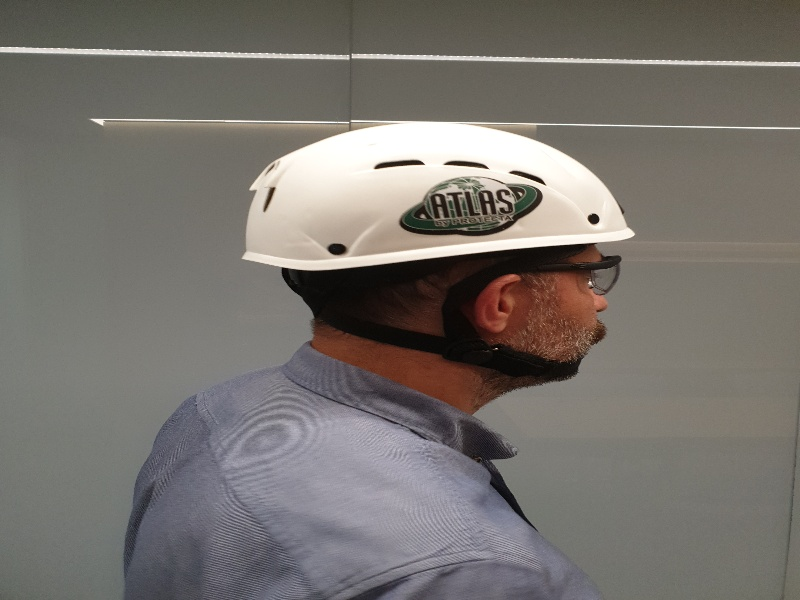Baret: (252, 122, 631, 254)
Gozluk: (547, 250, 636, 292)
